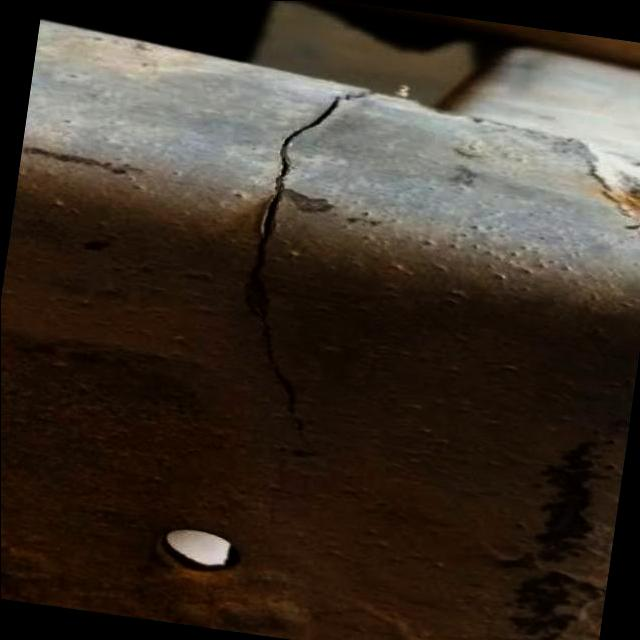defect: (243, 85, 378, 458)
